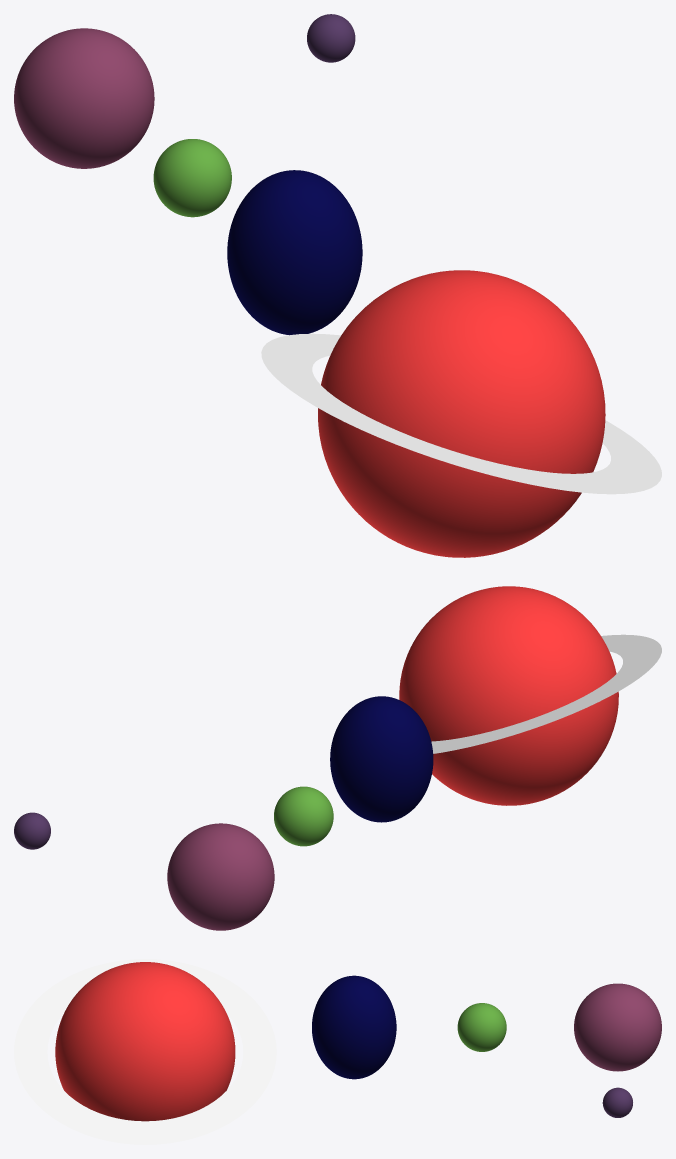
The model's file is planets_tutorial.gltf.
3 views of the same model, one above another, from view 1: azimuth 30°, elevation 25°; view 2: azimuth 150°, elevation 25°; view 3: azimuth 270°, elevation 25° (orthographic). The views are drawn at different scales.
Visible parts, largest first — view 1: Icosphere, Icosphere.001, Icosphere.003, Circle, Icosphere.002, Icosphere.004; view 2: Icosphere, Icosphere.001, Icosphere.003, Circle, Icosphere.002, Icosphere.004; view 3: Icosphere, Circle, Icosphere.001, Icosphere.003, Icosphere.002, Icosphere.004.
Boxes of the visible parts, x1,y1,x2,y2 form: Icosphere: [318, 270, 605, 557]; Icosphere.001: [227, 170, 362, 335]; Icosphere.003: [14, 28, 154, 168]; Circle: [261, 333, 661, 494]; Icosphere.002: [153, 139, 231, 217]; Icosphere.004: [307, 14, 355, 62]; Icosphere: [399, 586, 618, 805]; Icosphere.001: [330, 696, 433, 822]; Icosphere.003: [167, 823, 274, 930]; Circle: [431, 634, 661, 753]; Icosphere.002: [274, 786, 333, 846]; Icosphere.004: [14, 812, 50, 849]; Icosphere: [55, 962, 235, 1121]; Circle: [14, 959, 276, 1144]; Icosphere.001: [312, 975, 396, 1079]; Icosphere.003: [574, 983, 661, 1071]; Icosphere.002: [457, 1003, 506, 1051]; Icosphere.004: [602, 1087, 632, 1117].
Size of what is drawn, in the model's own units: 3.52 by 2 by 7.19.
